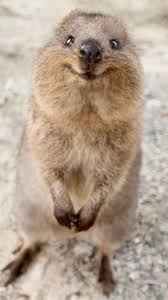quokka: (0, 4, 153, 297)
